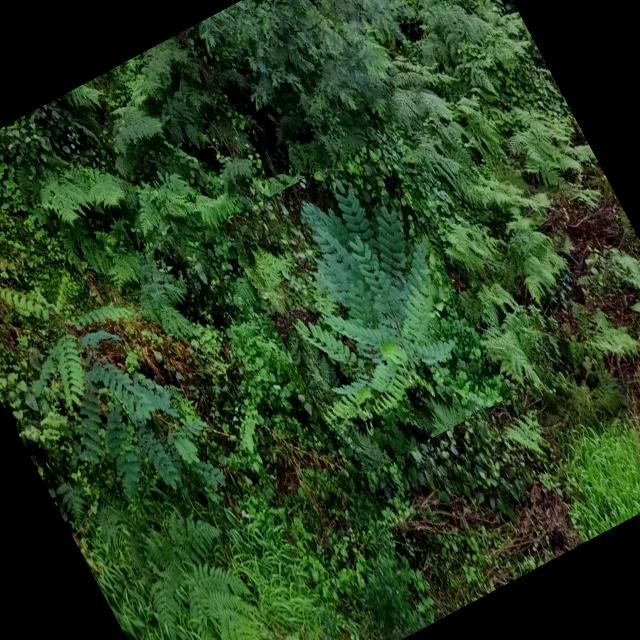Mysore-Thorn-Weed: (219, 140, 512, 478), (0, 196, 255, 556)
